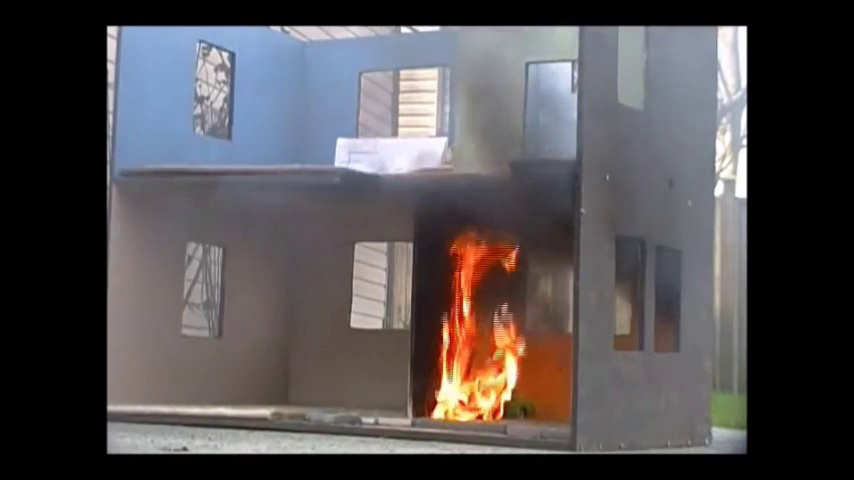fire: (440, 244, 510, 418)
